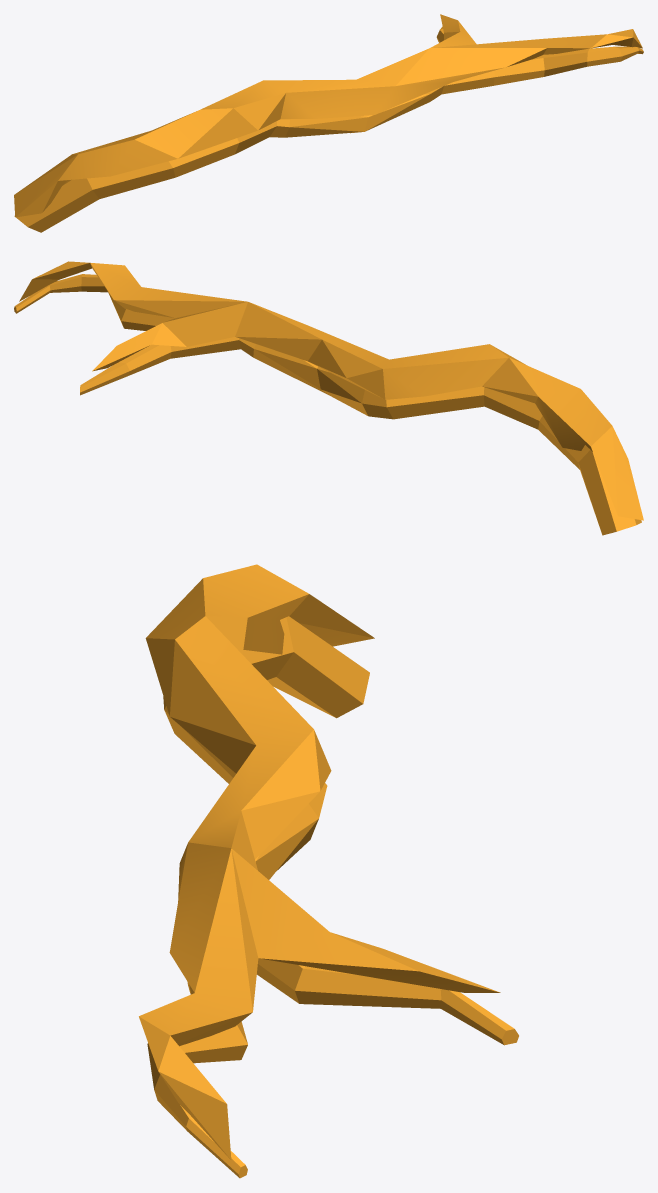
Rendered from SM_Root_Nature_Single_C_Snow.fbx.
The picture shows the model from 3 angles, top to bottom: view 1: azimuth 30°, elevation 25°; view 2: azimuth 150°, elevation 25°; view 3: azimuth 270°, elevation 25°; orthographic projection. The views are drawn at different scales.
Parts seen in each view (by area): view 1: root-nature-single-c-snow; view 2: root-nature-single-c-snow; view 3: root-nature-single-c-snow.
Boxes of the visible parts, <box> form: root-nature-single-c-snow: <box>14,14,643,232</box>; root-nature-single-c-snow: <box>14,261,643,535</box>; root-nature-single-c-snow: <box>139,564,518,1178</box>.
Size of the model in its own units: 2.85 by 0.4986 by 0.7734.
